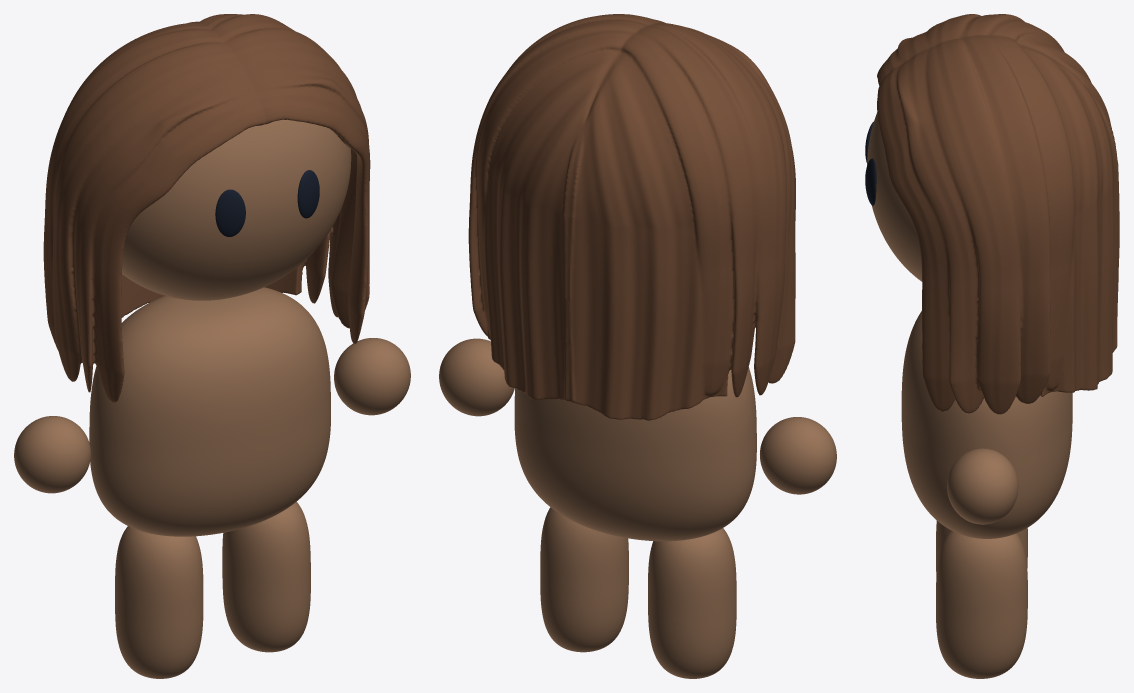
The model's file is Feminine-skin2.glb.
The picture shows the model from 3 angles, left to right: view 1: azimuth 30°, elevation 25°; view 2: azimuth 150°, elevation 25°; view 3: azimuth 270°, elevation 25°; orthographic projection. The views are drawn at different scales.
Parts seen in each view (by area): view 1: Hair / Straight blended sculpt, Skin / compact torso with skirt outline, Skin / soft oval head, Skin / leg -1, Skin / leg 1, Skin / hand -1, Skin / hand 1, Eye / dark oval -1, Eye / dark oval 1; view 2: Hair / Straight blended sculpt, Skin / compact torso with skirt outline, Skin / leg -1, Skin / leg 1, Skin / hand -1, Skin / hand 1; view 3: Hair / Straight blended sculpt, Skin / compact torso with skirt outline, Skin / leg 1, Skin / hand 1, Skin / soft oval head, Skin / leg -1, Eye / dark oval 1.
Boxes of the visible parts, x1,y1,x2,y2 form: Hair / Straight blended sculpt: (43,14,370,402); Skin / compact torso with skirt outline: (89,287,330,536); Skin / soft oval head: (122,119,351,300); Skin / leg -1: (115,526,203,678); Skin / leg 1: (222,501,310,652); Skin / hand -1: (14,416,90,493); Skin / hand 1: (334,338,410,415); Eye / dark oval -1: (215,189,245,236); Eye / dark oval 1: (297,170,319,218); Hair / Straight blended sculpt: (468,14,795,420); Skin / compact torso with skirt outline: (514,367,756,541); Skin / leg -1: (648,528,736,678); Skin / leg 1: (540,507,628,652); Skin / hand -1: (760,417,836,494); Skin / hand 1: (439,338,514,416); Hair / Straight blended sculpt: (877,14,1119,414); Skin / compact torso with skirt outline: (901,311,1072,538); Skin / leg 1: (936,530,1027,678); Skin / hand 1: (947,448,1018,524); Skin / soft oval head: (867,112,922,281); Skin / leg -1: (936,520,1027,574); Eye / dark oval 1: (865,158,876,205).
Bounding box in the file's own units: 1.49 × 2.31 × 0.8691.
